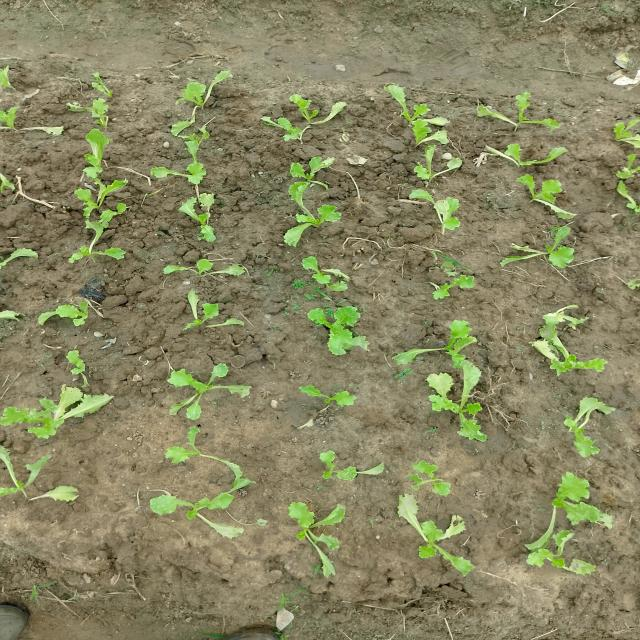Lettuce: (153, 362, 260, 428), (521, 309, 624, 375), (396, 496, 487, 570), (282, 504, 378, 571), (151, 421, 247, 481), (429, 362, 499, 439), (526, 507, 612, 567), (7, 385, 116, 431), (306, 293, 374, 364), (536, 467, 612, 527), (153, 488, 242, 534), (402, 318, 482, 368), (380, 91, 458, 141), (510, 172, 580, 227), (182, 284, 250, 338), (562, 389, 616, 456), (264, 83, 330, 136), (70, 128, 140, 177), (511, 234, 591, 276), (278, 198, 346, 246), (480, 96, 570, 130), (160, 253, 264, 282), (406, 193, 475, 235), (176, 190, 227, 245), (492, 135, 574, 169), (0, 104, 71, 142), (77, 174, 138, 218), (308, 447, 382, 483), (72, 215, 126, 260), (408, 146, 467, 187), (299, 252, 358, 290), (407, 454, 460, 495), (36, 292, 101, 324), (288, 154, 338, 194), (422, 267, 480, 301), (0, 62, 48, 103), (601, 107, 640, 152), (77, 94, 119, 128), (0, 169, 20, 195)
